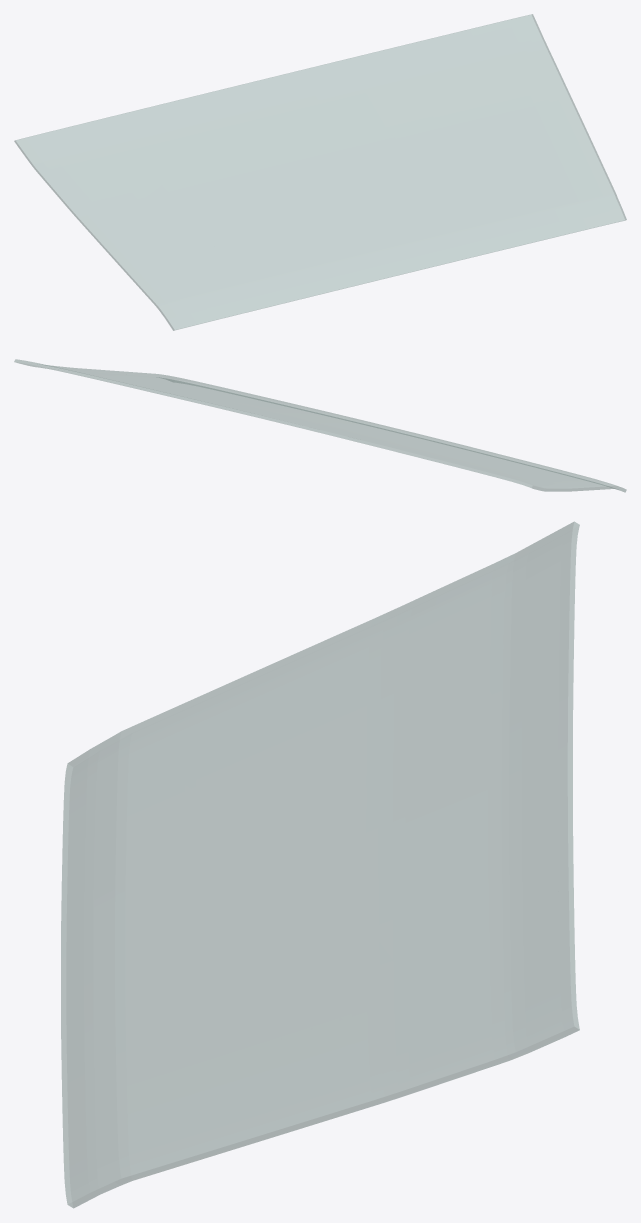
File: vidro_traseiro.glb
3 views of the same model, one above another, from view 1: azimuth 30°, elevation 25°; view 2: azimuth 150°, elevation 25°; view 3: azimuth 270°, elevation 25° (orthographic). The views are drawn at different scales.
Visible parts, largest first — view 1: vidro_traseiro_vidro; view 2: vidro_traseiro_vidro; view 3: vidro_traseiro_vidro.
Boxes of the visible parts, box(x1,y1,x2,y2) form: vidro_traseiro_vidro: box(14, 14, 626, 330); vidro_traseiro_vidro: box(14, 359, 626, 492); vidro_traseiro_vidro: box(61, 521, 579, 1208).
Size of the model in its own units: 1.43 by 0.288 by 0.6212.
